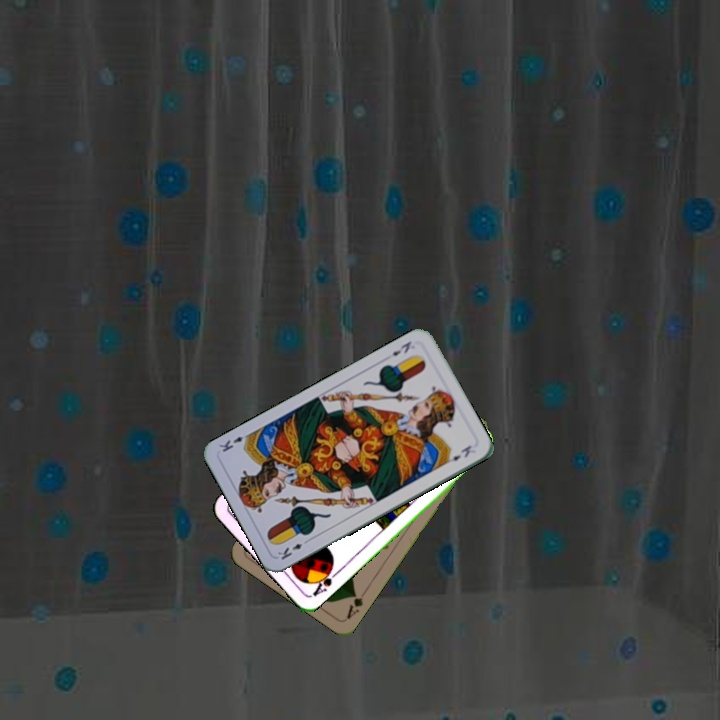EK: (273, 535, 312, 562), (381, 337, 414, 361)
GA: (342, 586, 370, 622)
SA: (308, 563, 341, 599)
